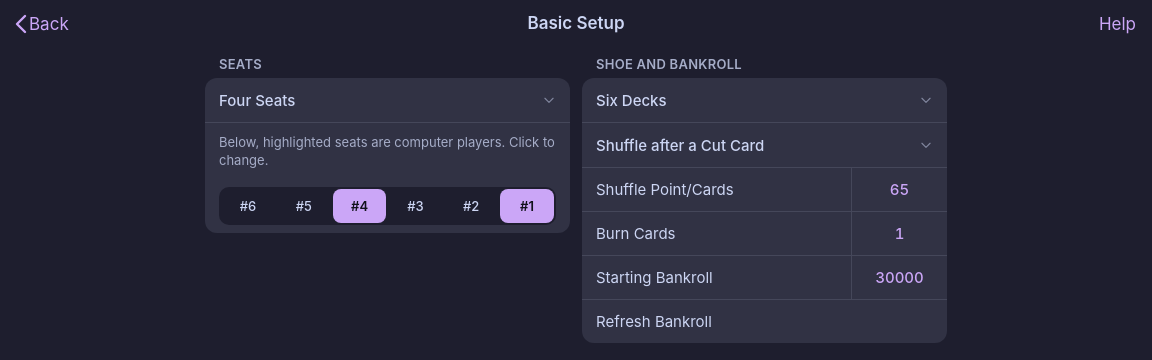
Basic Setup › shows the cut card row or the rounds row by shuffle mode
Expected: the text "Shuffle Point/Cards" is shown, [596,180,734,199]
Expected: the text "Rounds" is not shown
Select "Shuffle after Fixed Rounds" in the dropdown named "Shuffle": coordinates (764, 145) [582,123,947,167]
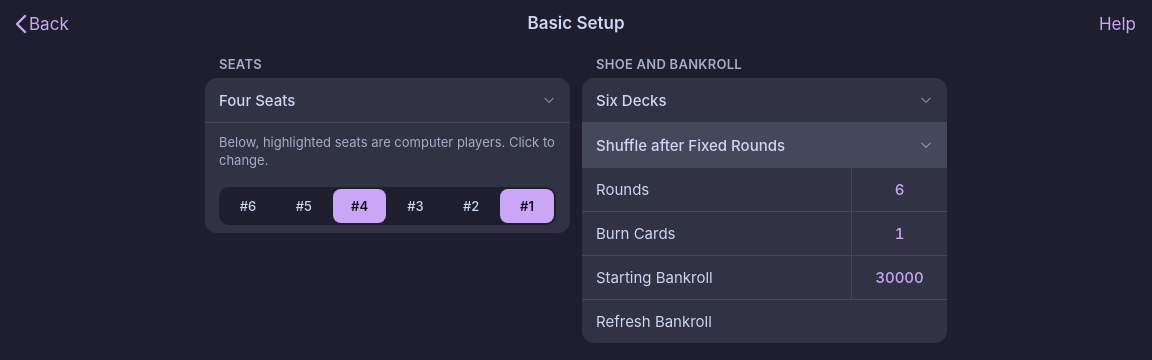
Result: the text "Shuffle Point/Cards" is gone
Result: the text "Rounds" is shown at [596,180,649,199]
